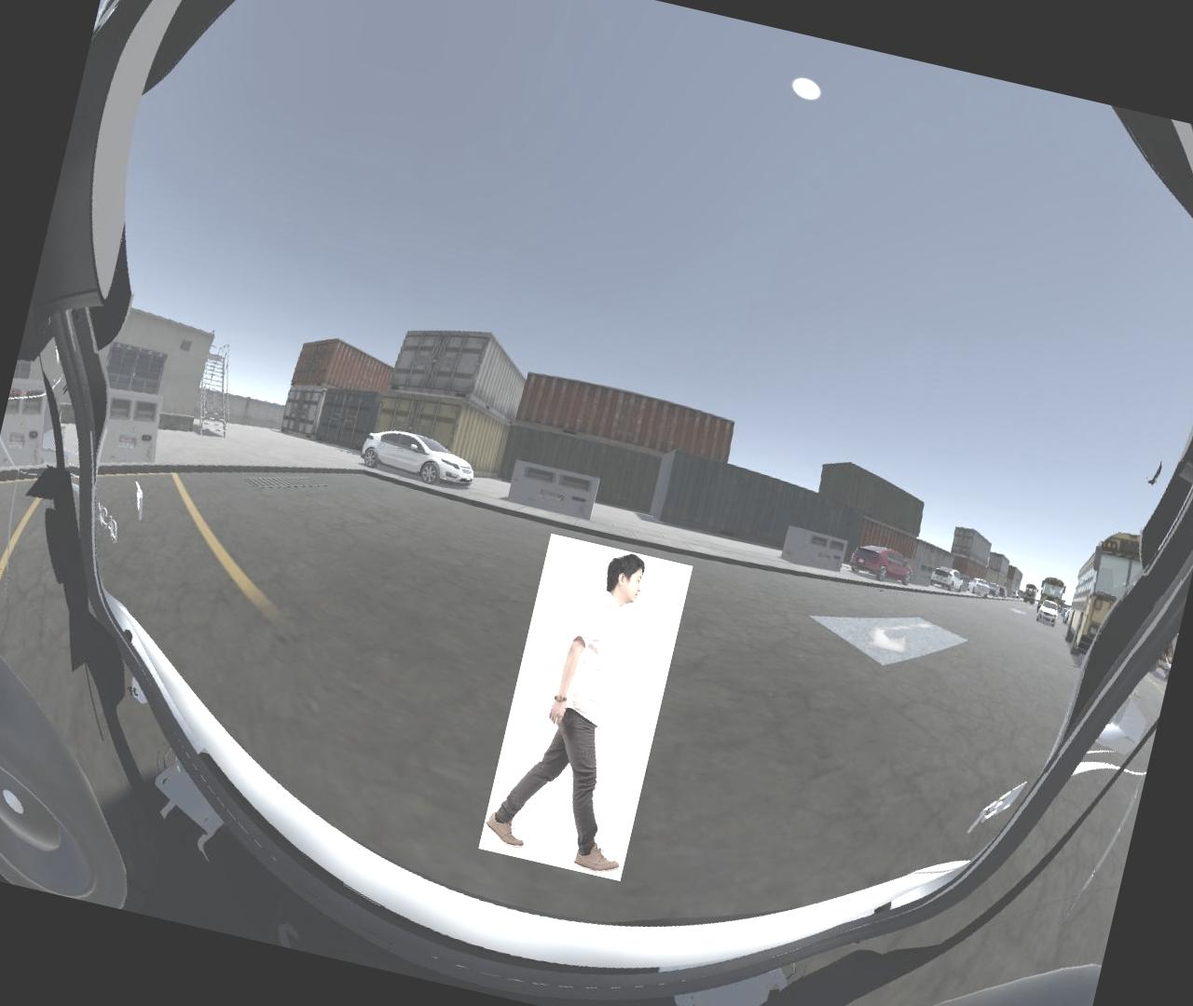objects: (474, 532, 690, 881)
